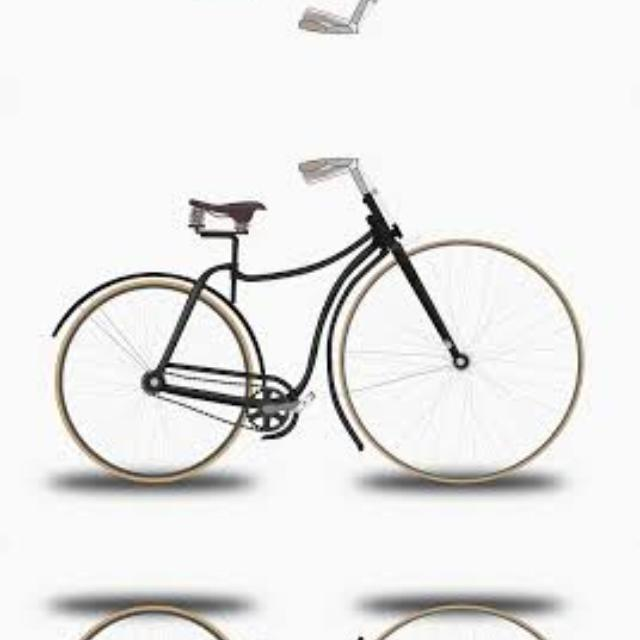obstacle: (42, 150, 590, 492), (41, 595, 590, 640), (41, 0, 590, 40)
